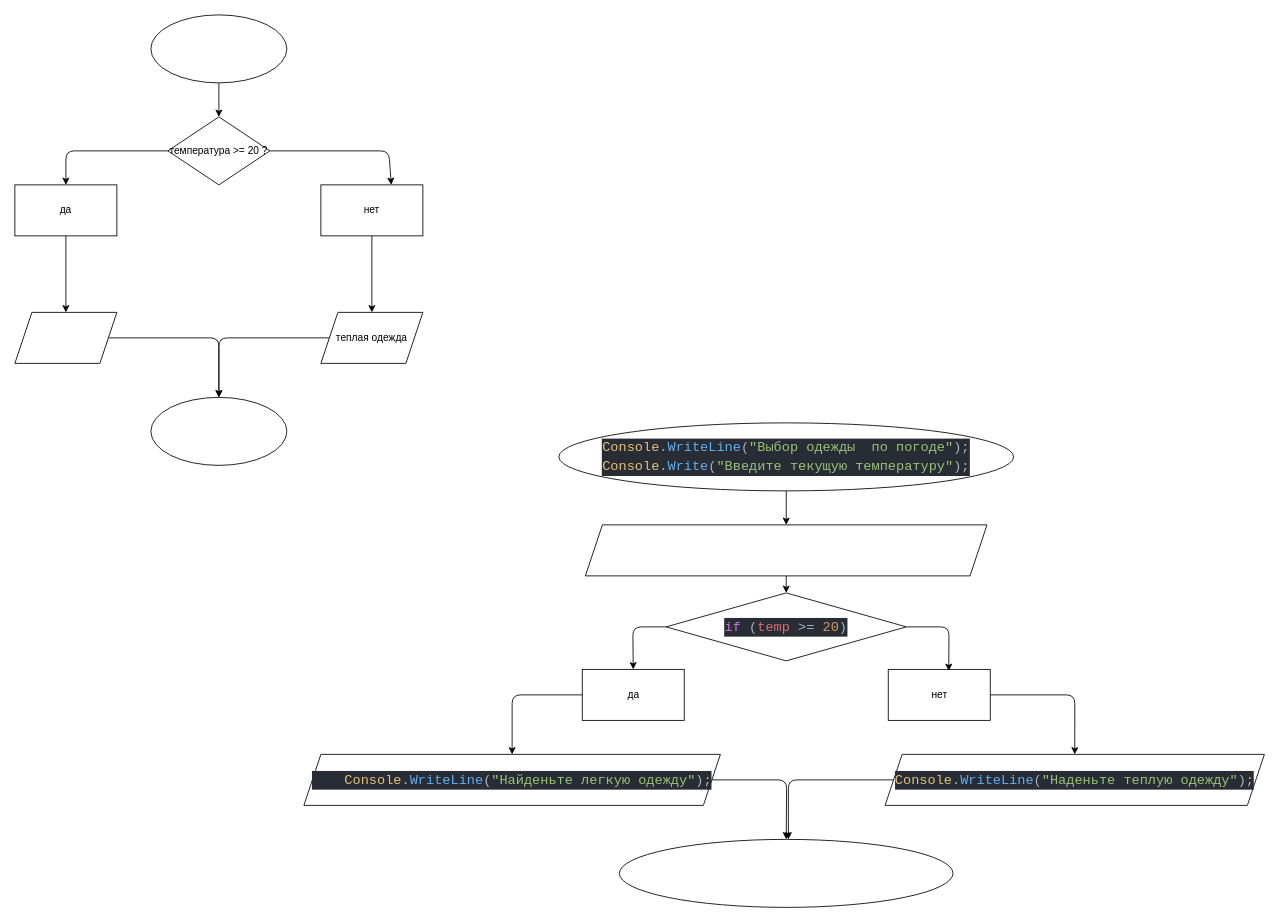
Image size: 1279x922. Some labels were removed from this diagram. Here are the shapes that lost their labels. From the top down, the box of each, then its label:
(150, 14, 287, 83): начало
(14, 312, 117, 363): легкая одежда
(150, 397, 287, 465): конец
(585, 524, 987, 576): int temp = Convert . ToInt32 ( Console . ReadLine ());
(619, 839, 953, 907): Console . WriteLine ( "Хорошего дня" );
